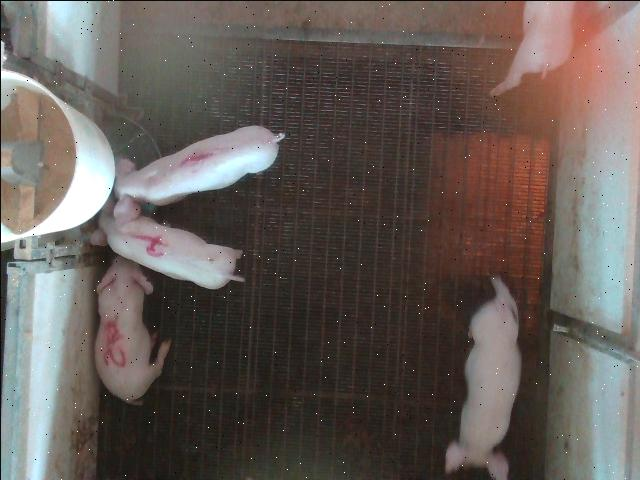pig-1: (112, 126, 284, 226)
pig-4: (99, 199, 241, 288)
pig-5: (94, 256, 170, 404)
